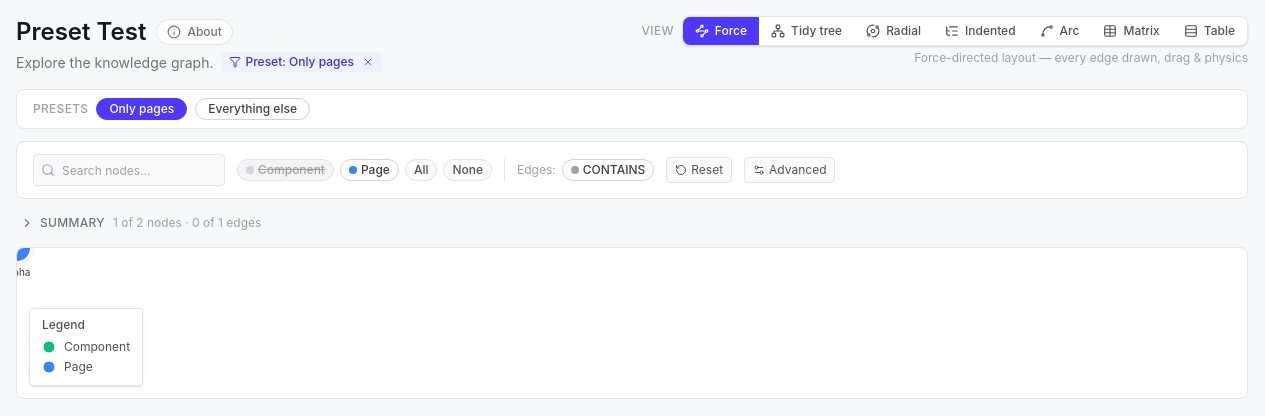
Viewer presets › clearing the preset via the badge restores all types and hides the badge
What coordinates should you click on to do the following:
click the button "Indented"
I would click on:
 (980, 31)
Its box is [933,17,1028,45].
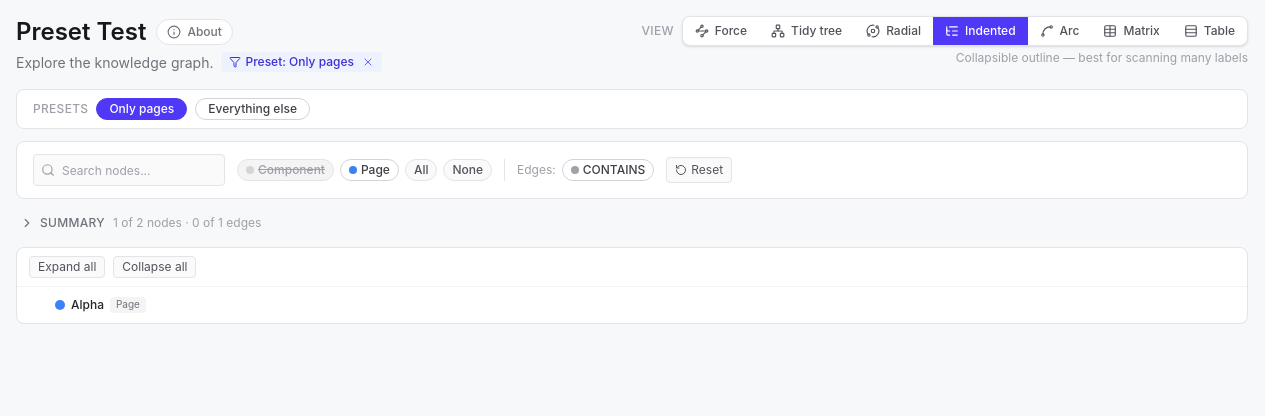
What coordinates should you click on to do the following:
click the button named "clear preset"
I would click on:
 (368, 62)
Its box is [362,56,374,68].
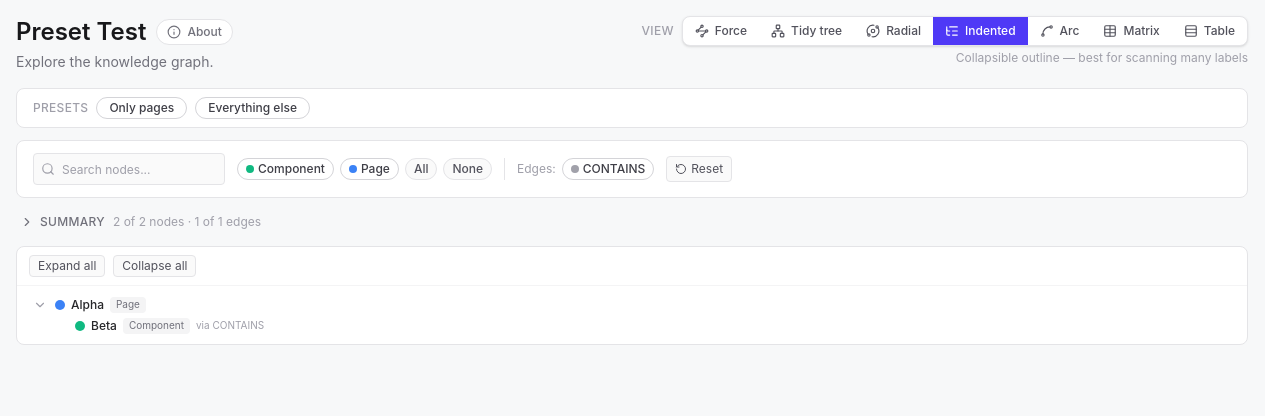
Check: the text "Alpha" is shown, box [71,297,104,313]
Check: the element with test id "active-preset-badge" is gone
Check: the text "Beta" is shown, box [91,318,117,334]
